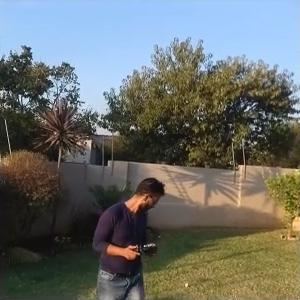follow: (88, 174, 165, 299)
